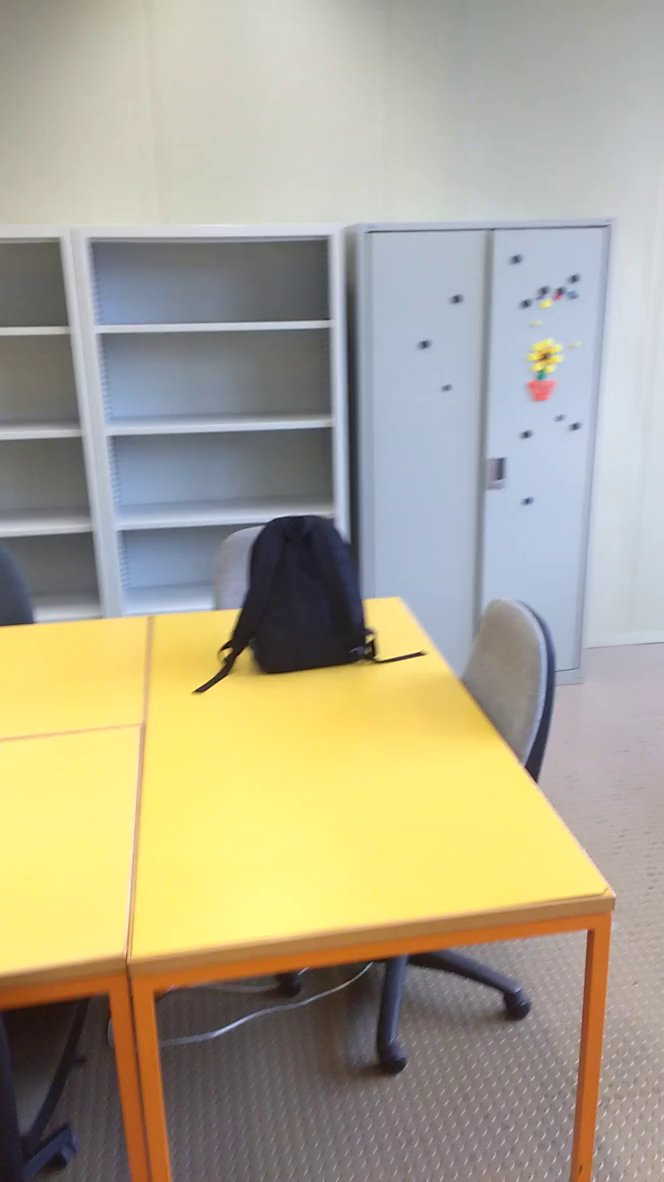bag: (186, 505, 431, 701)
chair: (448, 585, 571, 817)
